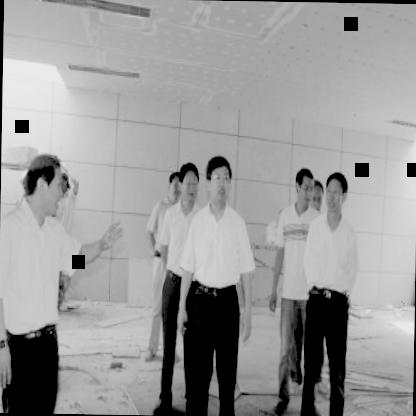head: (18, 151, 67, 219), (202, 151, 236, 211), (323, 167, 351, 220), (178, 156, 202, 209), (292, 164, 316, 212), (308, 181, 323, 216), (165, 172, 180, 204)
